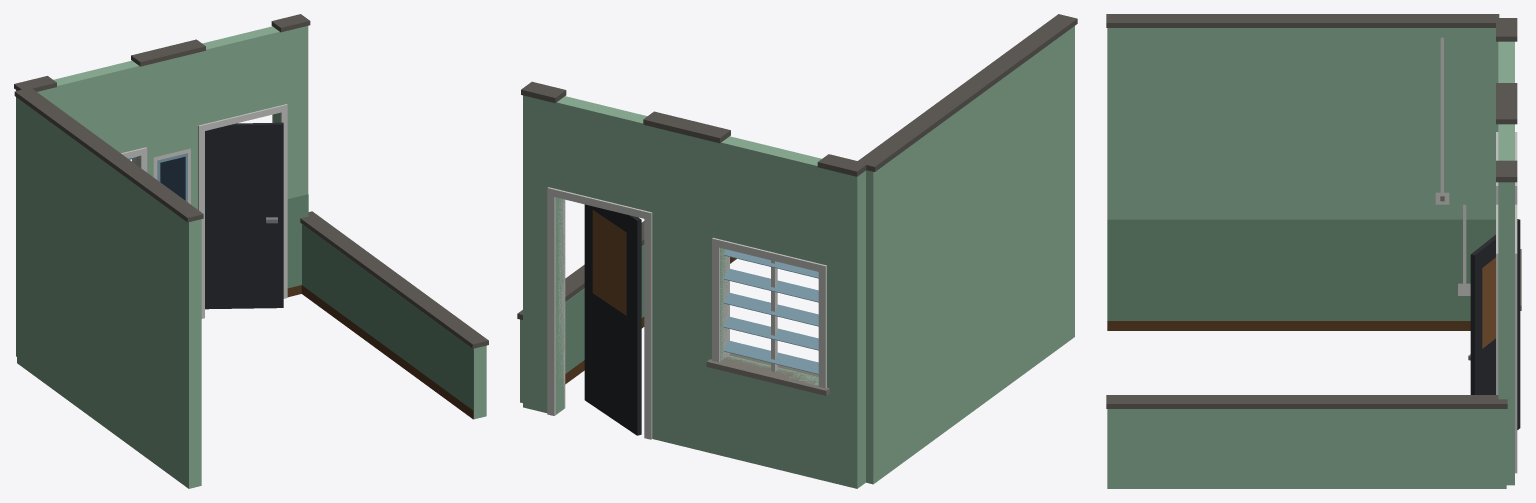
The model's file is bld_home-hostel-room.glb.
3 views of the same model, side by side, from view 1: azimuth 30°, elevation 25°; view 2: azimuth 150°, elevation 25°; view 3: azimuth 270°, elevation 25° (orthographic). The views are drawn at different scales.
Parts seen in each view (by area): view 1: body; view 2: body; view 3: body.
Part boxes in pixels (box(x1,y1,x2,y2)): body: box(14, 14, 488, 488); body: box(517, 14, 1077, 488); body: box(1106, 14, 1521, 488).
Bounding box in the file's own units: 3.54 × 3.05 × 3.72.
